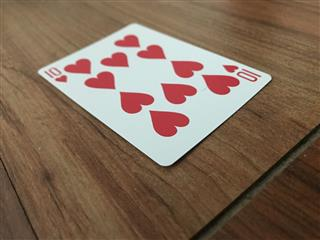TenOfHearts: (36, 21, 272, 166)
